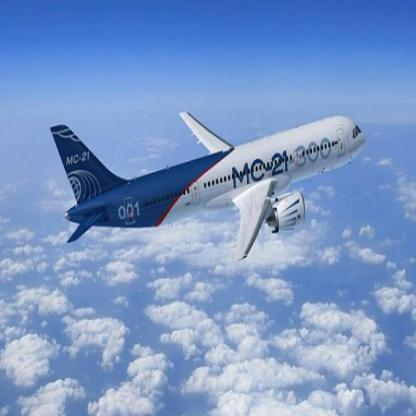CIV_Plane: (47, 102, 370, 274)
